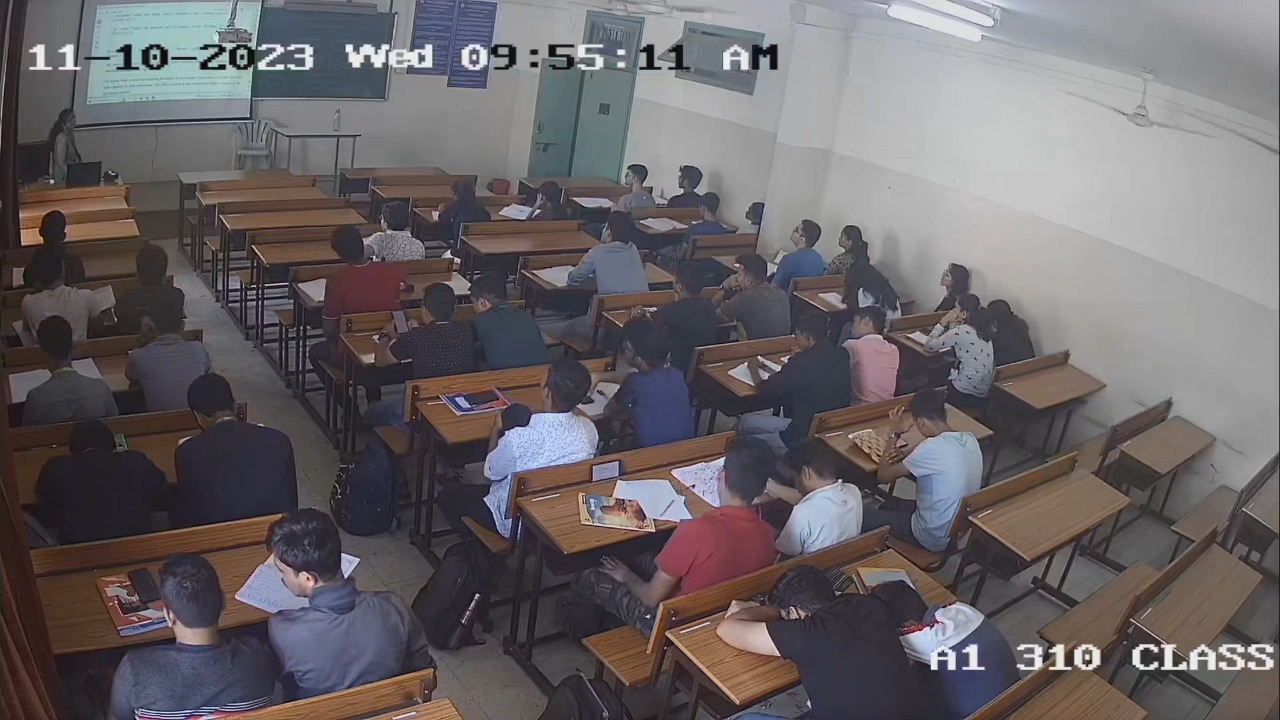cell-phones: (126, 566, 163, 605), (588, 457, 626, 483), (462, 388, 500, 407), (390, 308, 410, 336), (752, 360, 779, 376), (918, 326, 937, 338)
person: (107, 551, 275, 720), (650, 431, 776, 592), (481, 358, 599, 475), (372, 281, 478, 376), (758, 310, 852, 416), (920, 293, 993, 391)
